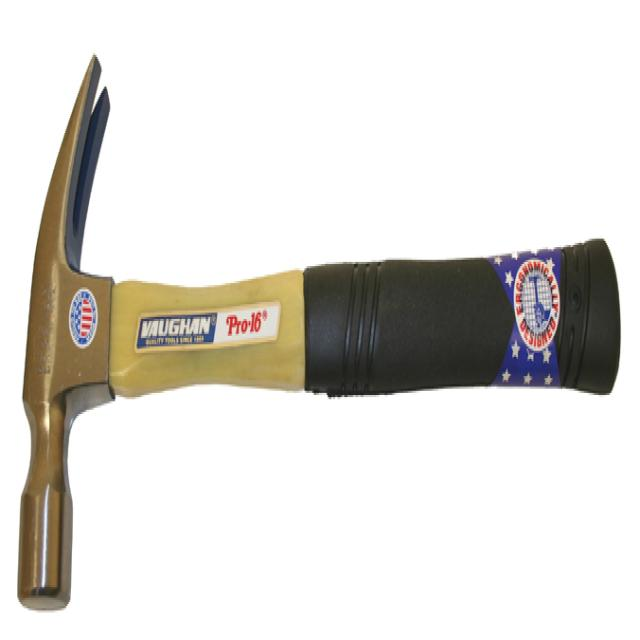hammer: (5, 33, 503, 637)
